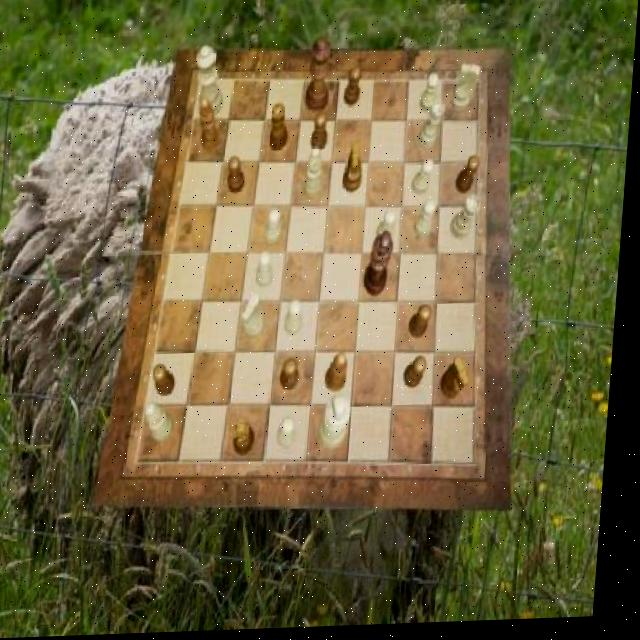bishop: (200, 98, 226, 153), (330, 355, 355, 396)
black-bishop: (368, 233, 399, 299)
black-king: (445, 359, 477, 403), (347, 143, 367, 196)
black-knight: (459, 158, 484, 196), (413, 308, 438, 344), (158, 366, 183, 399), (409, 359, 433, 392), (313, 115, 333, 154), (230, 158, 250, 195), (346, 69, 364, 110), (286, 361, 307, 392)
black-pawn: (307, 40, 334, 116)
black-queen: (271, 105, 292, 152), (239, 421, 264, 458)
black-rook: (149, 403, 182, 444), (306, 148, 329, 201)
white-bishop: (324, 398, 358, 453)
white-king: (453, 68, 483, 116), (246, 296, 272, 341)
white-knight: (414, 162, 439, 197), (418, 202, 440, 240), (422, 76, 442, 115), (380, 212, 401, 247), (289, 301, 309, 336), (283, 418, 304, 451), (260, 253, 279, 289), (268, 210, 287, 246)
white-pawn: (194, 47, 228, 120)
white-queen: (453, 200, 485, 244), (421, 102, 449, 152)
